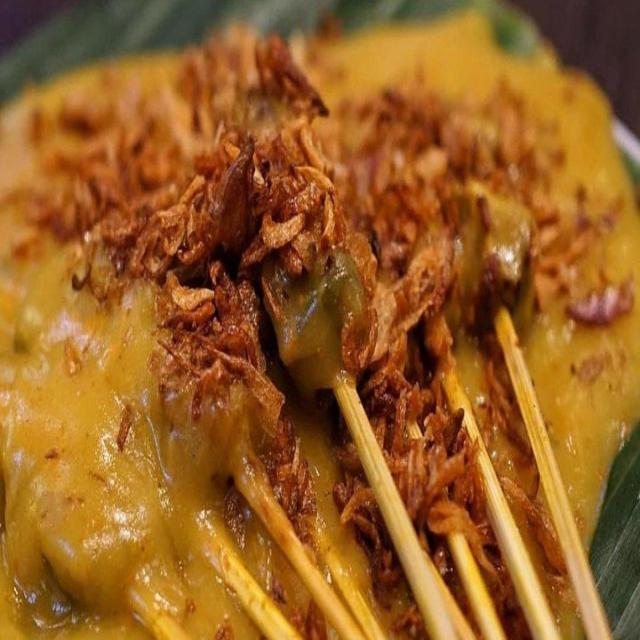Sate: (141, 121, 607, 630)
